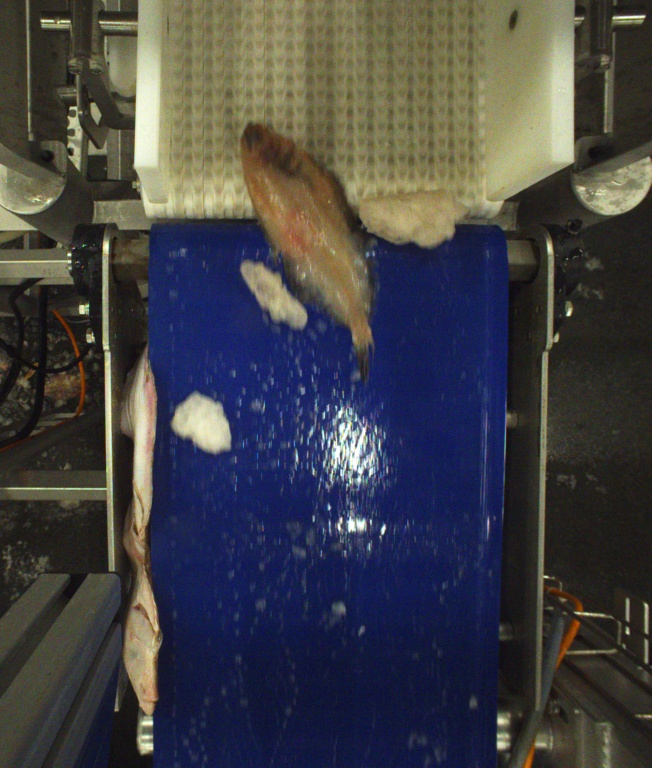WIT: (234, 119, 380, 378)
